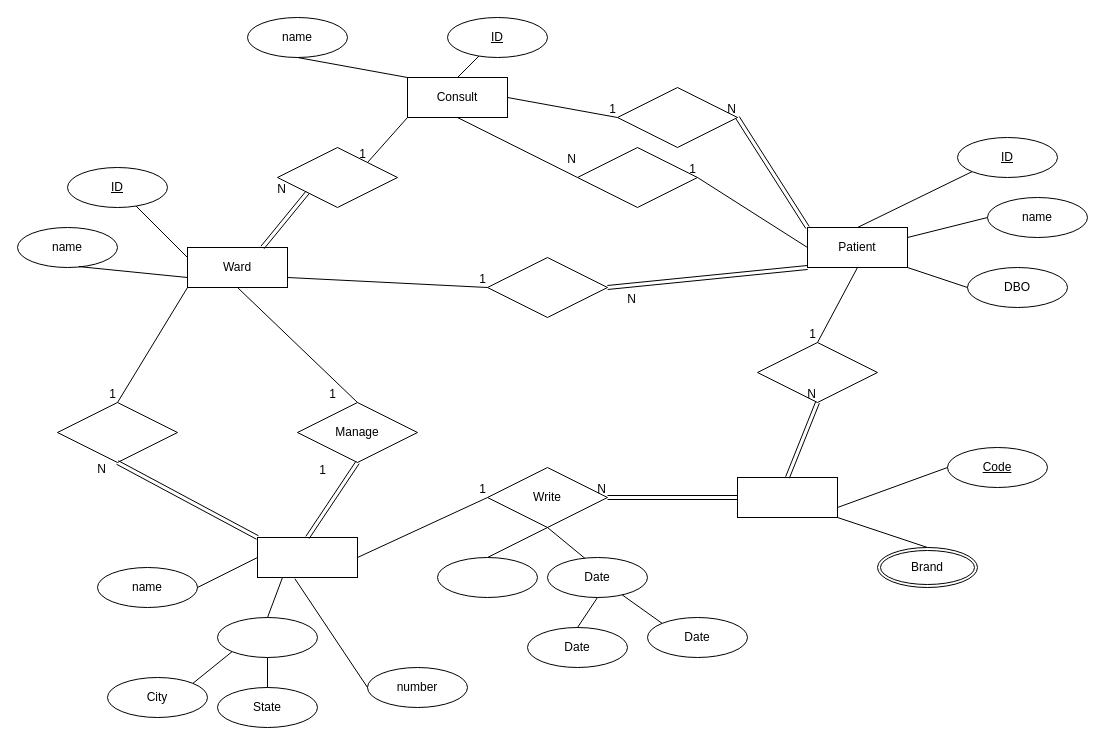
The diagram is 1105 pixels wide and 745 high, and some of its shapes have lost their labels. Here are the shapes that lost their labels. From the top down, the centre of each, then its label:
the point at 677,117: Exam
the point at 337,177: Has
the point at 637,177: Assigned
the point at 547,287: Host
the point at 817,372: Take
the point at 117,432: Work
the point at 787,497: Drag
the point at 307,557: Nurse
the point at 487,577: Dose
the point at 267,637: address
